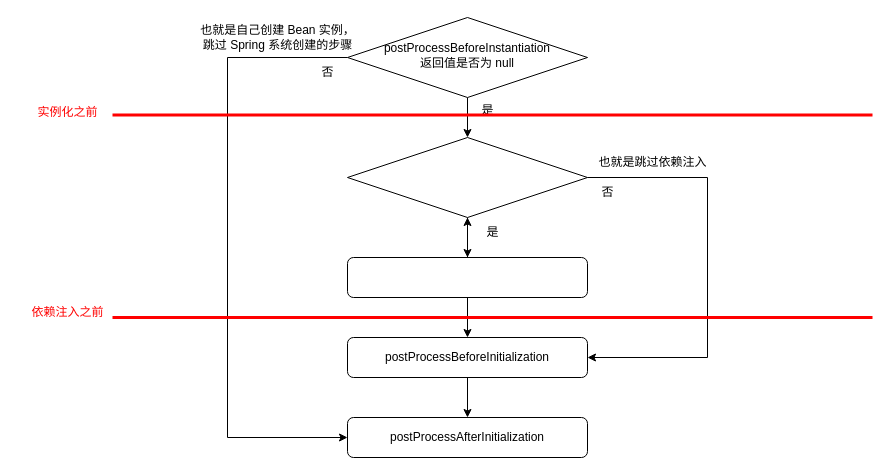
This 892x475 diagram has some shape labels left out. Here are the shapes that lost their labels. From the top down, the box of each, then its label:
(346, 136, 588, 218): postProcessAfterInstantiation 返回值是否为 true
(346, 256, 588, 298): postProcessProperties
